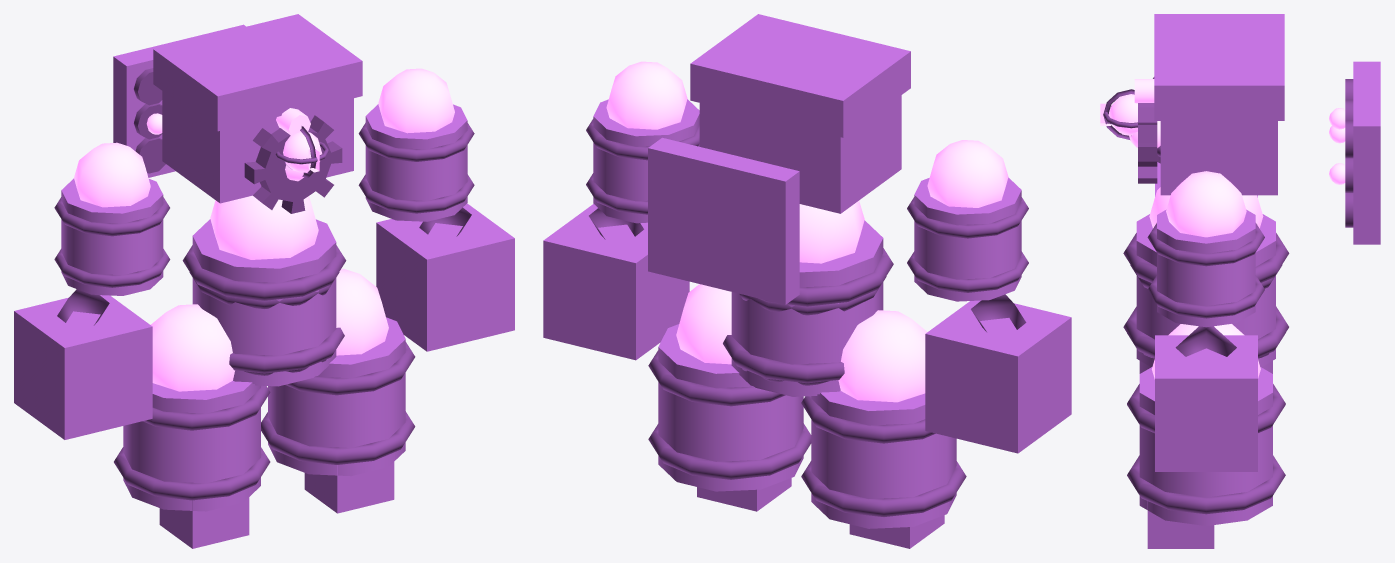
The model's file is golem_137.glb.
The picture shows the model from 3 angles, left to right: view 1: azimuth 30°, elevation 25°; view 2: azimuth 150°, elevation 25°; view 3: azimuth 270°, elevation 25°; orthographic projection. The views are drawn at different scales.
Visible parts, largest first — view 1: Body, Detail, Glow; view 2: Body, Detail, Glow; view 3: Body, Detail, Glow.
Part boxes in pixels (x1=…): Body: x1=14, y1=14, x2=514, y2=548; Detail: x1=54, y1=68, x2=474, y2=500; Glow: x1=74, y1=68, x2=454, y2=391; Body: x1=543, y1=14, x2=1071, y2=548; Detail: x1=586, y1=119, x2=1028, y2=516; Glow: x1=606, y1=61, x2=1008, y2=402; Body: x1=1131, y1=14, x2=1380, y2=548; Detail: x1=1103, y1=77, x2=1353, y2=514; Glow: x1=1100, y1=79, x2=1345, y2=379.
Size of the model in its own units: 1.16 by 1.09 by 0.6148.
